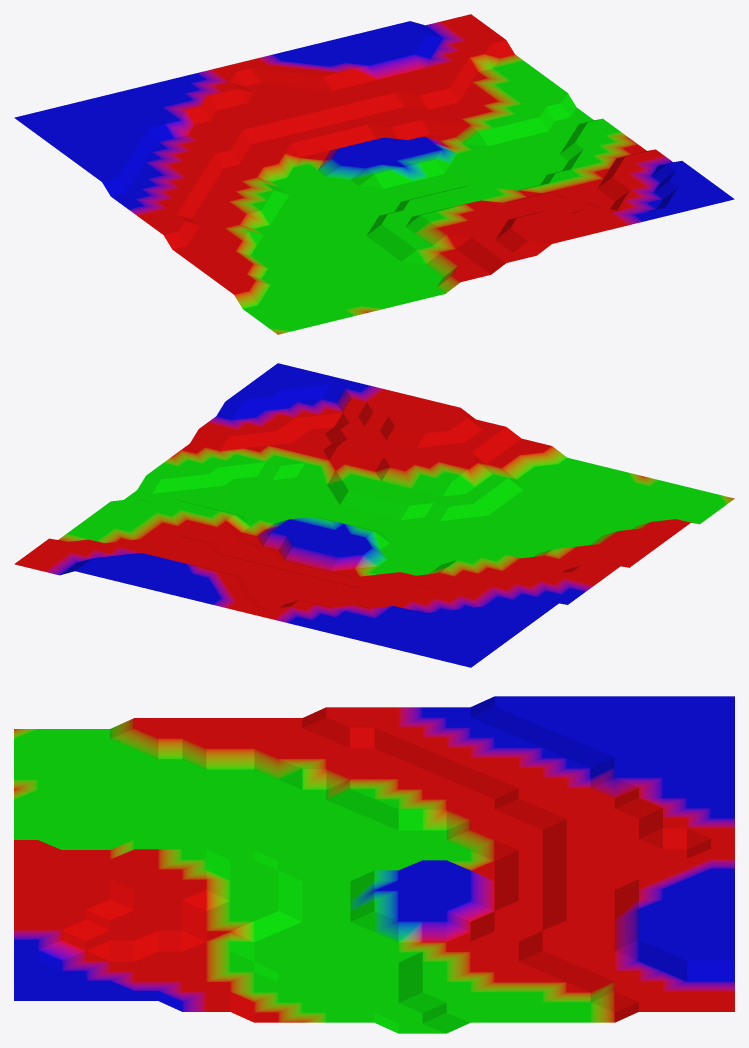
File: terrain.glb
3 views of the same model, one above another, from view 1: azimuth 30°, elevation 25°; view 2: azimuth 150°, elevation 25°; view 3: azimuth 270°, elevation 25° (orthographic). The views are drawn at different scales.
Visible parts, largest first — view 1: Plane; view 2: Plane; view 3: Plane.
Boxes of the visible parts, x1,y1,x2,y2 form: Plane: [14, 14, 734, 334]; Plane: [14, 363, 734, 667]; Plane: [14, 696, 734, 1033].
Size of the model in its own units: 30 by 1.5 by 30.
